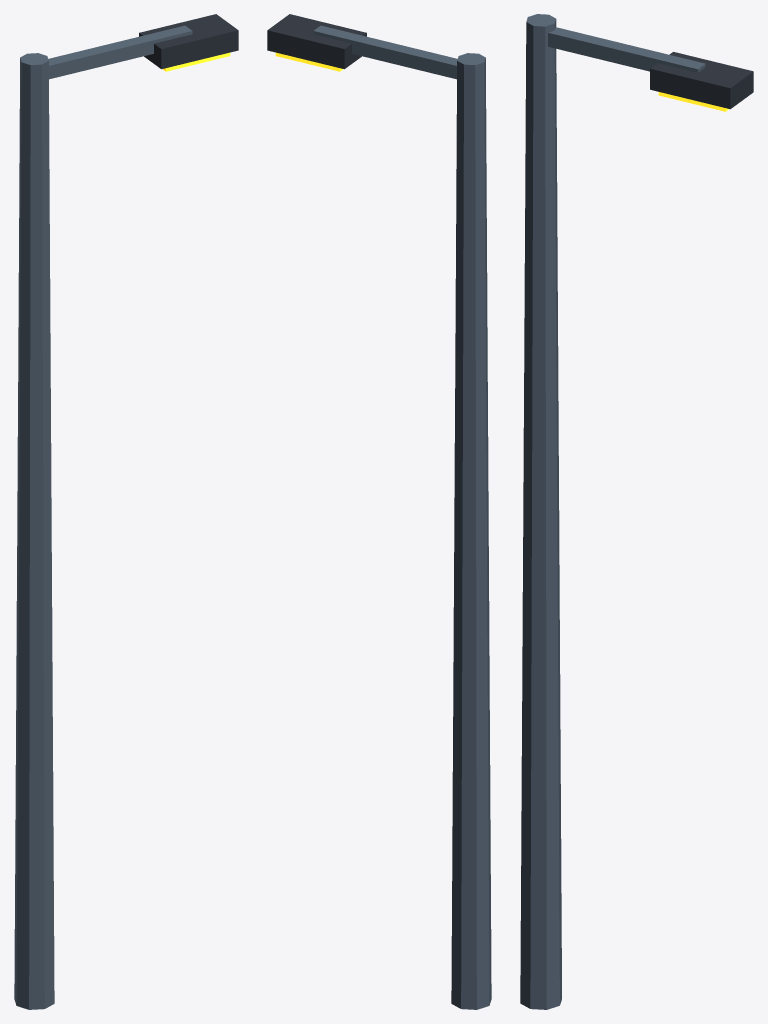
Rendered from city_street_lamp.glb.
The picture shows the model from 3 angles, left to right: view 1: azimuth 30°, elevation 25°; view 2: azimuth 150°, elevation 25°; view 3: azimuth 330°, elevation 25°; orthographic projection. The views are drawn at different scales.
Parts seen in each view (by area): view 1: city_street_lamp_steel, city_street_lamp_steelDark; view 2: city_street_lamp_steel, city_street_lamp_steelDark; view 3: city_street_lamp_steel, city_street_lamp_steelDark.
Boxes of the visible parts, box(x1,y1,x2,y2) form: city_street_lamp_steel: box(14, 25, 192, 1009); city_street_lamp_steelDark: box(139, 14, 238, 69); city_street_lamp_steel: box(313, 25, 491, 1009); city_street_lamp_steelDark: box(267, 14, 366, 69); city_street_lamp_steel: box(520, 14, 705, 1009); city_street_lamp_steelDark: box(650, 52, 753, 109).
Size of the model in its own units: 1.64 by 7 by 0.3.
